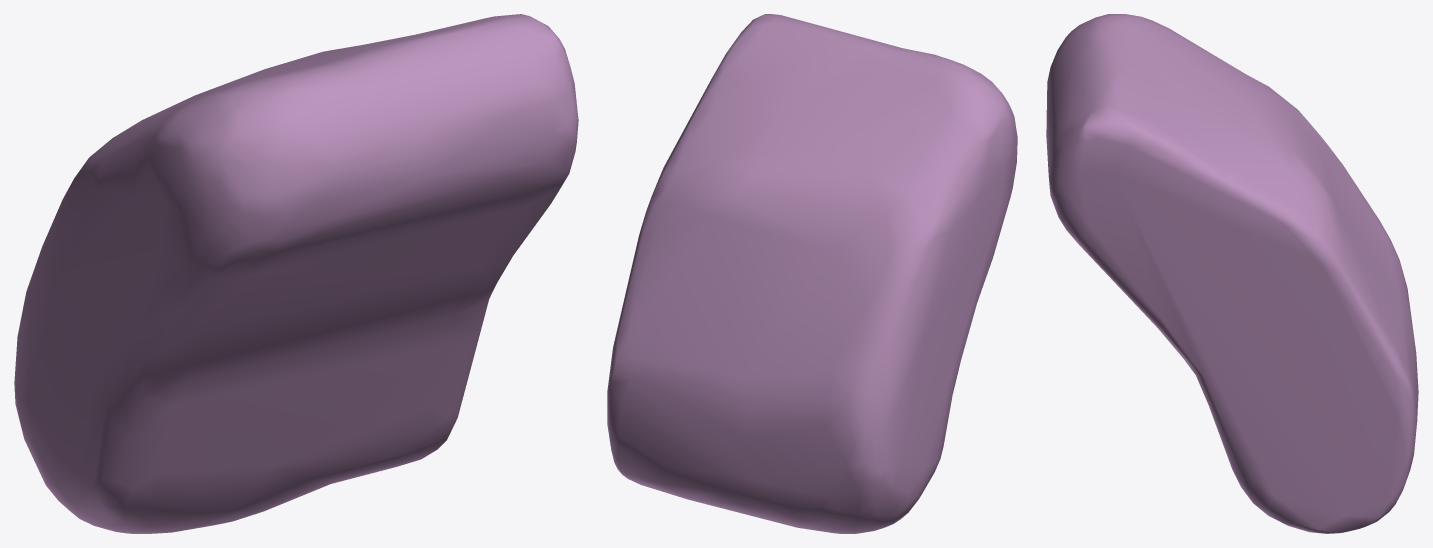
3 renders of one model, left to right at view 1: azimuth 30°, elevation 25°; view 2: azimuth 150°, elevation 25°; view 3: azimuth 270°, elevation 25°, orthographic. The views are drawn at different scales.
Visible parts, largest first — view 1: 右侧视交叉; view 2: 右侧视交叉; view 3: 右侧视交叉.
Boxes of the visible parts, x1,y1,x2,y2 form: 右侧视交叉: (14, 14, 578, 533); 右侧视交叉: (607, 14, 1017, 533); 右侧视交叉: (1046, 14, 1418, 533).
Bounding box in the file's own units: 0.0105 × 0.0147 × 0.0116.
